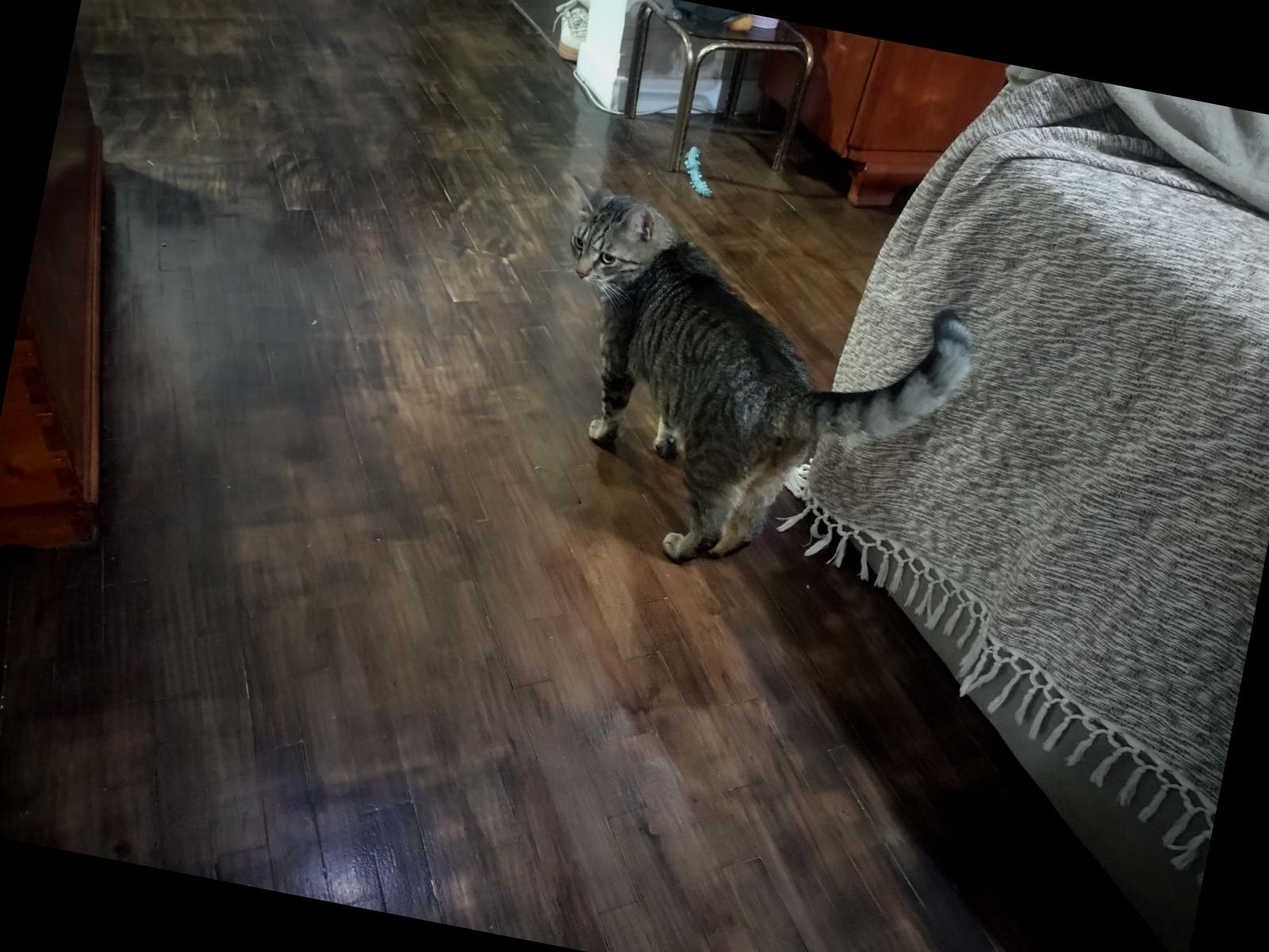macka: (501, 172, 999, 614)
